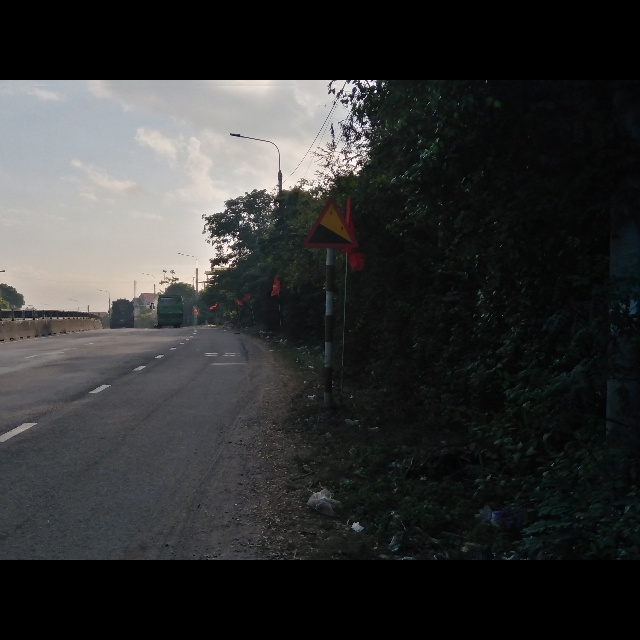Dốc lên nguy hiểm: (303, 195, 360, 248)
